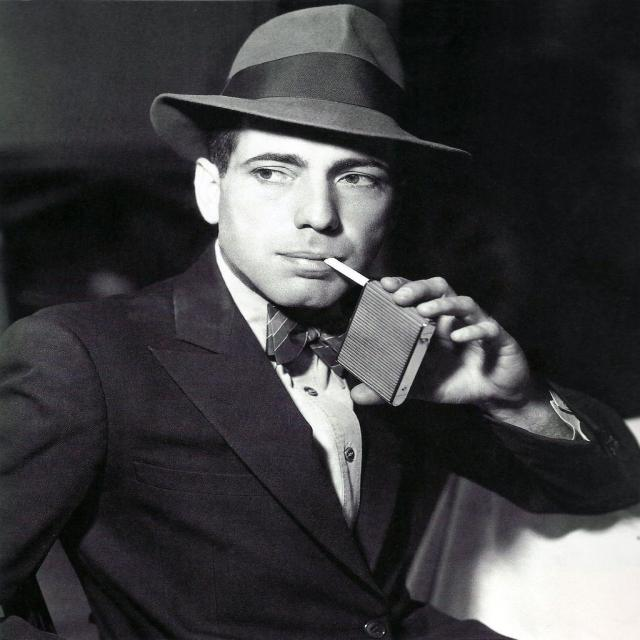smoking: (160, 4, 530, 414)
